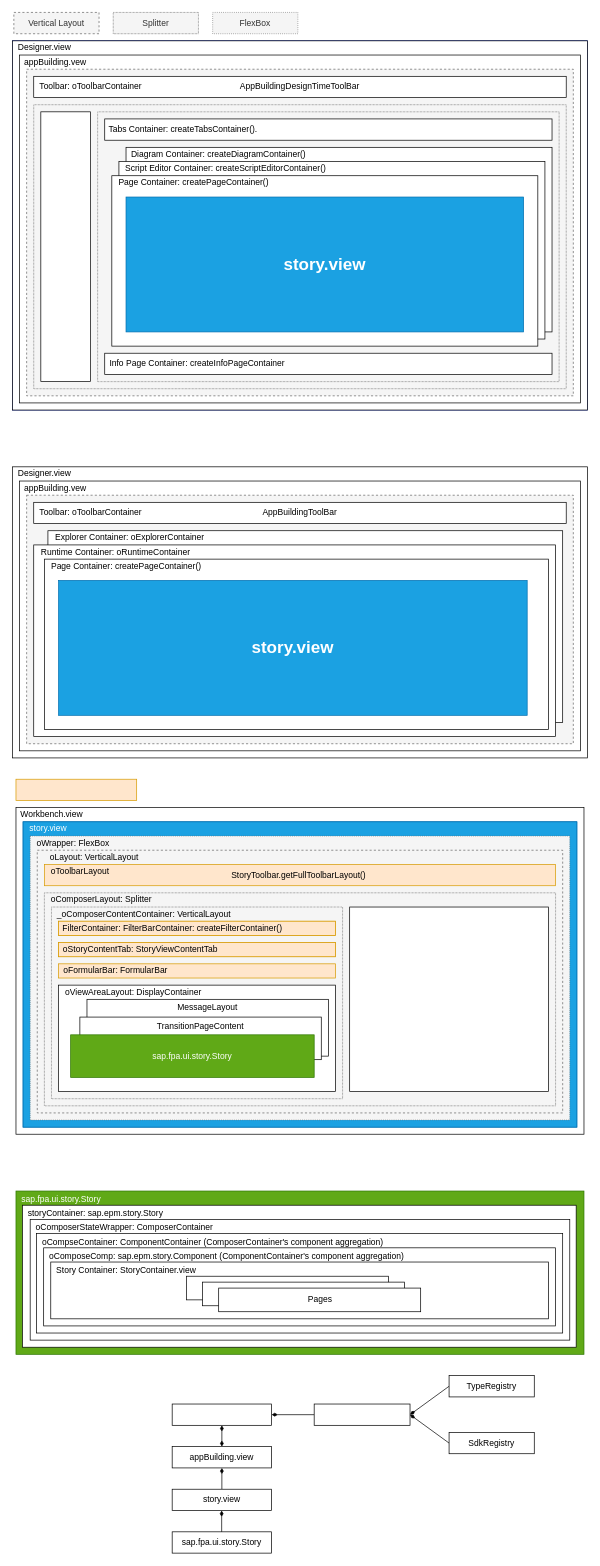
This 600x1566 diagram has some shape labels left out. Each missing label, with the centre of its shape:
"appBuilding.controller" belongs at [221,1414].
"AppBuildingContainer" belongs at [361,1414].
"ComposerPanel" belongs at [448,999].
"Outline Container: createOutlineContainer()" belongs at [65,246].
"Story 1.0 Specific" belongs at [76,790].
